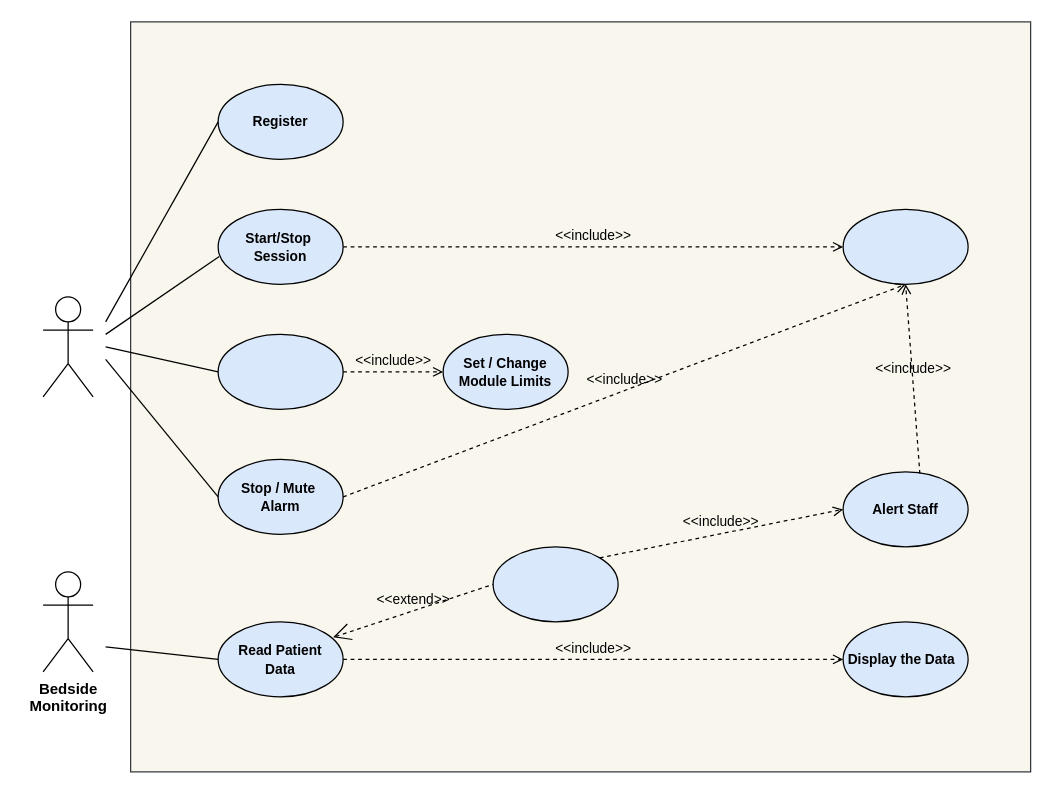
This 1053x794 diagram has some shape labels left out. Each missing label, with the centre of its shape:
"Medical Staff" belongs at (x=67, y=346).
"Record Time" belongs at (x=905, y=246).
"Select Hardware Module" belongs at (x=280, y=371).
"Trigger Alarm" belongs at (x=555, y=584).
